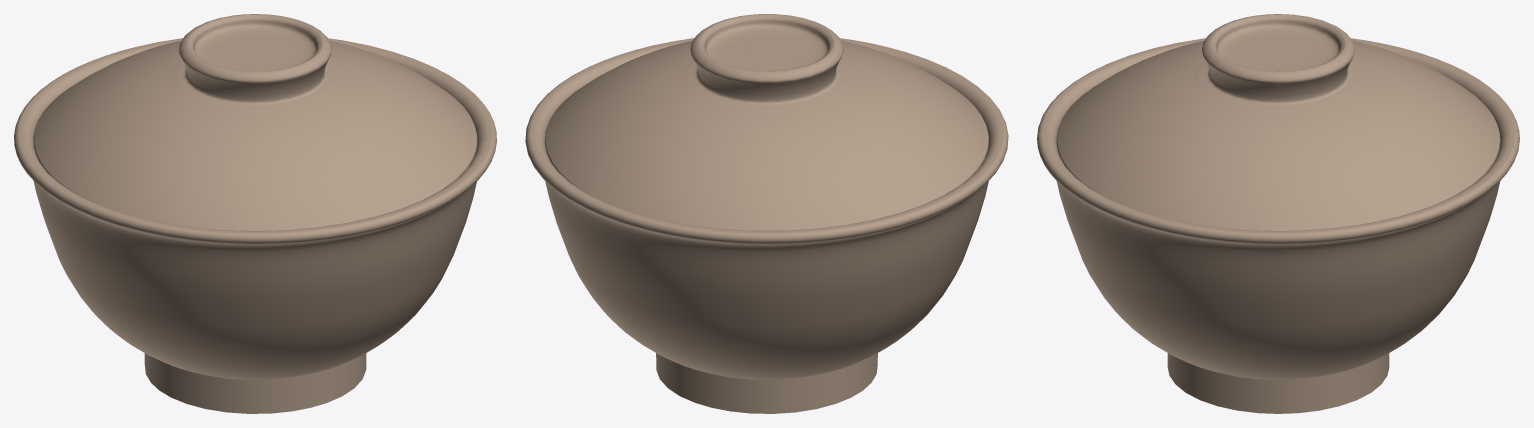
File: 332_どんぶり.glb
3 views of the same model, side by side, from view 1: azimuth 30°, elevation 25°; view 2: azimuth 150°, elevation 25°; view 3: azimuth 270°, elevation 25° (orthographic).
Visible parts, largest first — view 1: 蓋, Body1; view 2: 蓋, Body1; view 3: 蓋, Body1.
Part boxes in pixels (x1,y1,x2,y2): 蓋: (33, 14, 477, 230); Body1: (14, 38, 496, 413); 蓋: (545, 14, 988, 230); Body1: (525, 38, 1008, 413); 蓋: (1056, 14, 1500, 230); Body1: (1037, 38, 1519, 413).
Size of the model in its own units: 0.1673 by 0.1238 by 0.1673.
